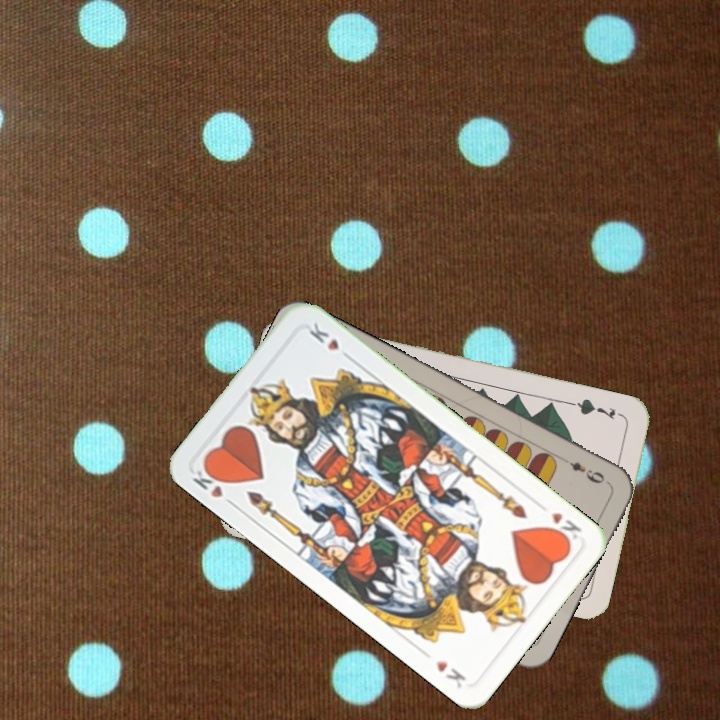E9: (565, 458, 608, 487)
G7: (568, 394, 618, 422)
HK: (188, 461, 239, 510), (544, 508, 585, 548)
